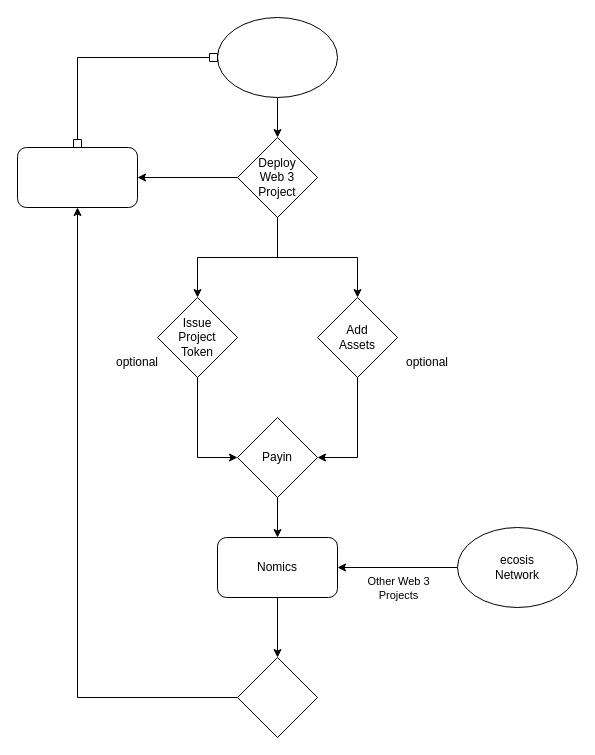
This 595x755 diagram has some shape labels left out. Each missing label, with the centre of its shape:
"Mint Nomics Token" goes at (277,697).
"Treasury" goes at (77,177).
"Web 3 Project" goes at (277,57).
